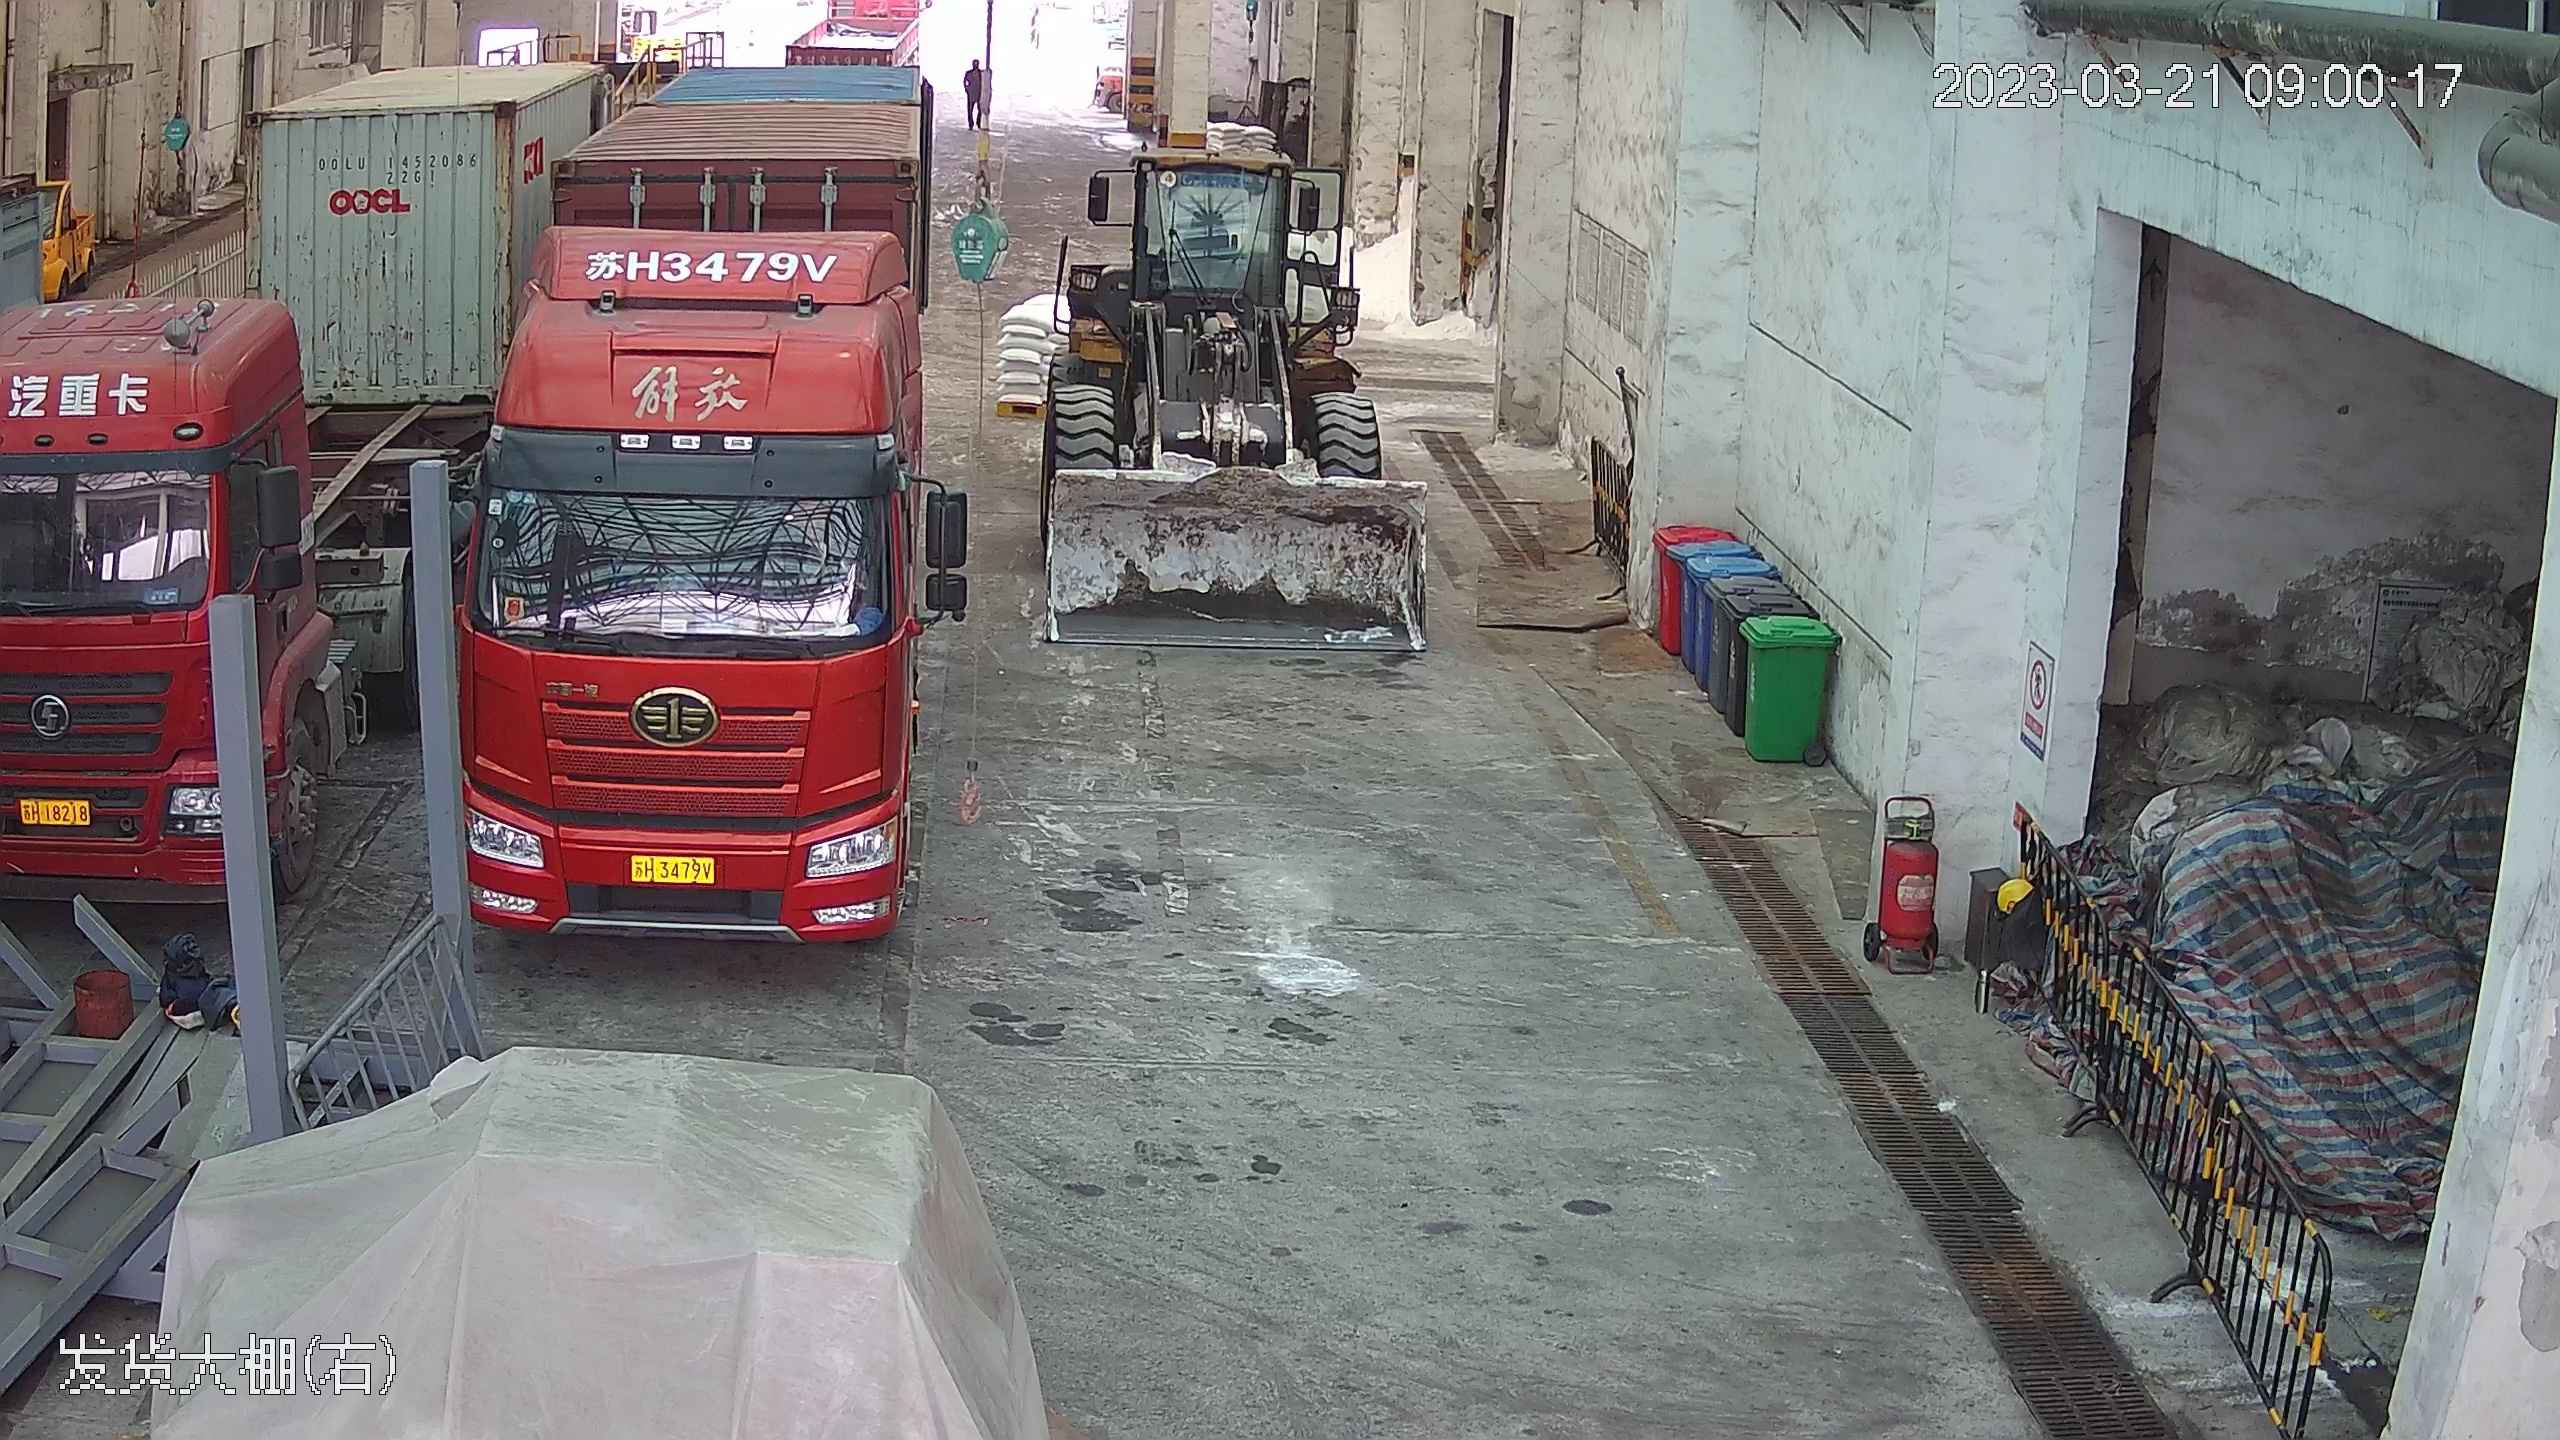people: (962, 57, 986, 130)
truck: (441, 27, 950, 948), (2, 74, 419, 892)
